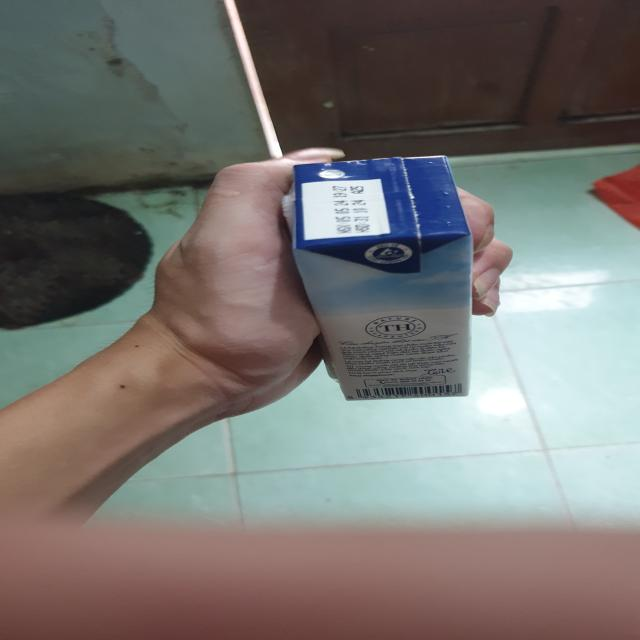TH: (290, 156, 474, 403)
